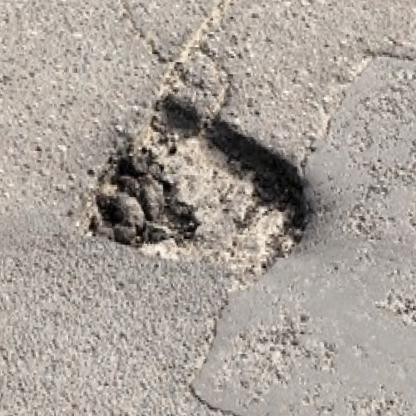pothole: (78, 83, 322, 290)
